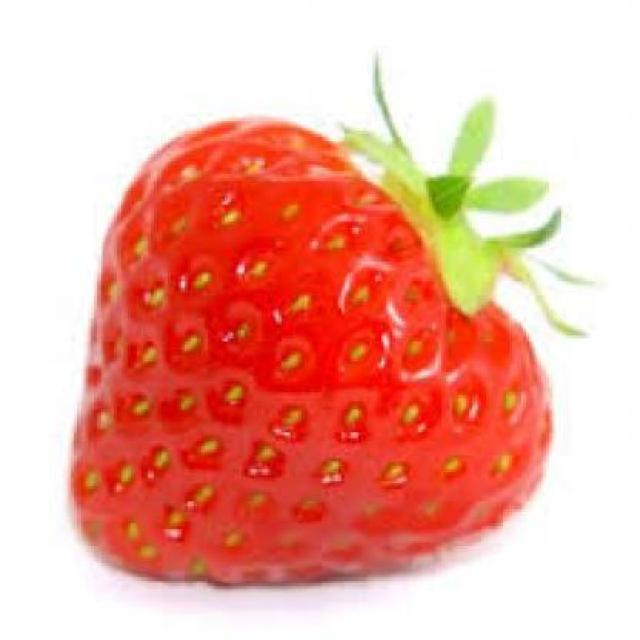BIODEGRADABLE: (71, 48, 603, 586)
